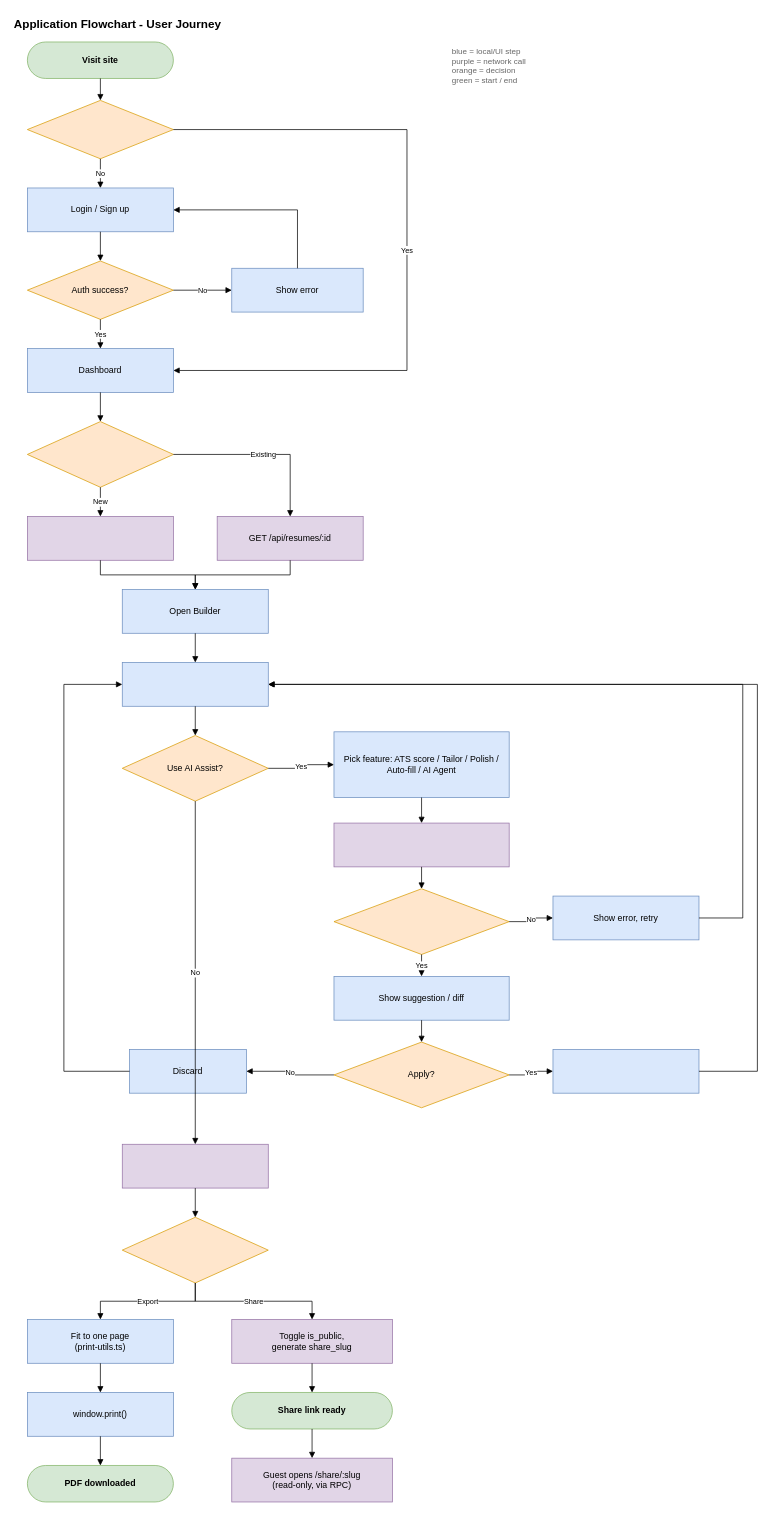
Image size: 776x1515. Some labels were removed from this diagram. The centre of each missing label's shape, as x and y in pixels:
"AI success?" goes at point (421, 921).
"Autosave PUT /api/resumes/:id" goes at point (195, 1166).
"Call /api/ai/*" goes at point (421, 844).
"Edit resume fields" goes at point (195, 684).
"Logged in?" goes at point (100, 129).
"Merge into resume store" goes at point (625, 1071).
"New or existing resume?" goes at point (100, 454).
"POST /api/resumes" goes at point (100, 538).
"Ready to use?" goes at point (195, 1250).
